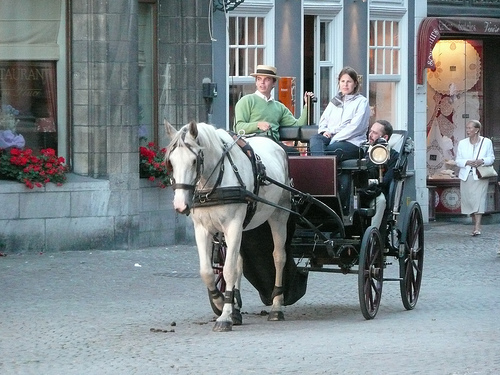horse: (161, 120, 303, 332)
